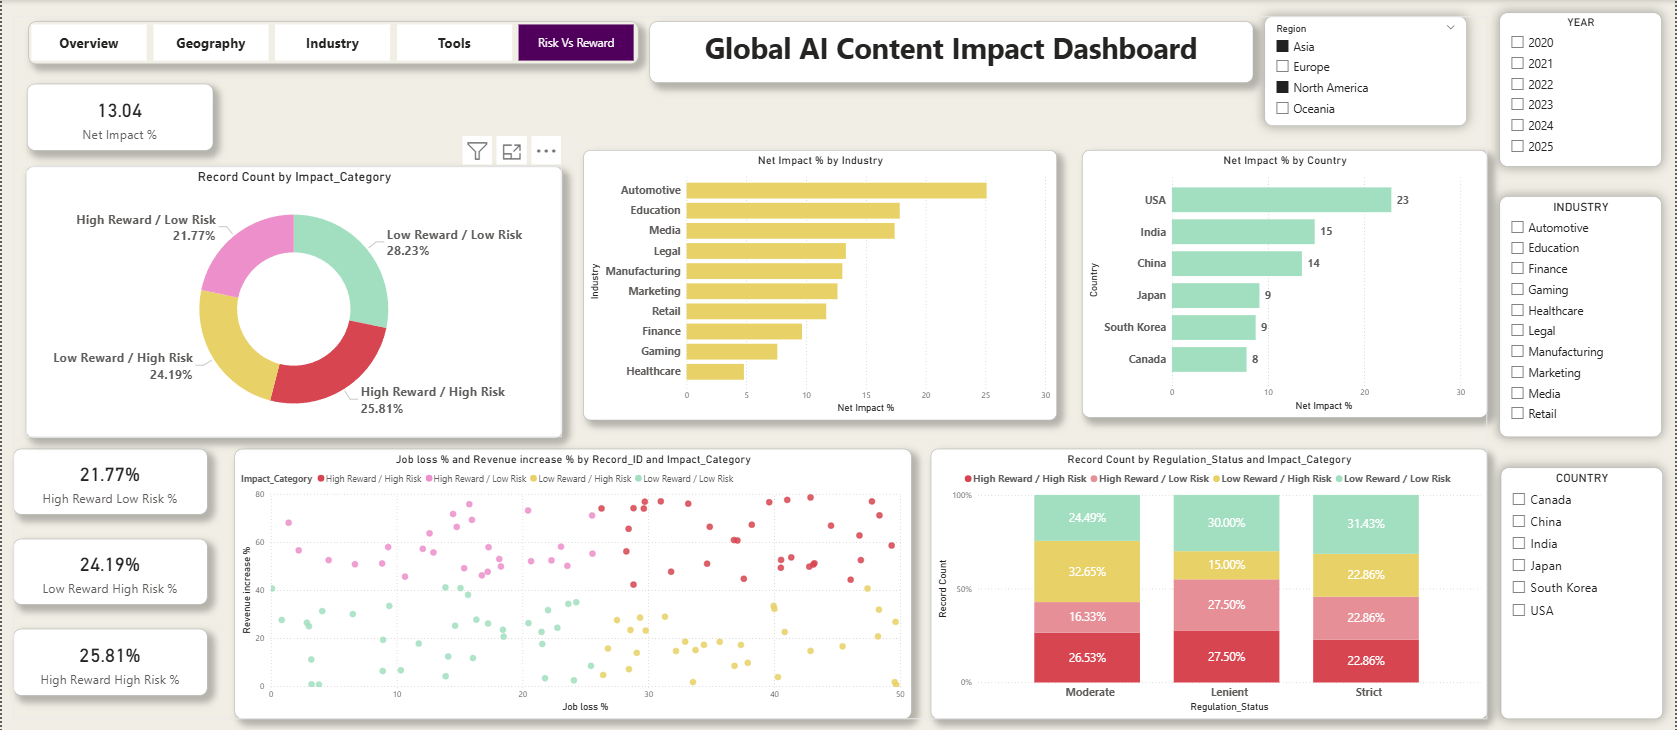

The page's visual inventory and layout, read from the dashboard file:
{"tool":"powerbi","page":{"name":"Risk Vs Reward","canvas":[2500,1100],"ordinal":4},"visuals":[{"type":"slicer","title":"YEAR","fields":{"Values":["AI_Content_Impact_Cleaned.Year"]},"box":[2240,24,242,230],"z":0},{"type":"card","fields":{"Values":["Measures Table.Net Impact %"]},"box":[16,106,278,100],"z":0,"group":"g1"},{"type":"card","fields":{"Values":["Measures Table.High Reward Low Risk %"]},"box":[16,670,290,98],"z":1000,"group":"g1"},{"type":"slicer","title":"COUNTRY","fields":{"Values":["AI_Content_Impact_Cleaned.Country"]},"box":[2240,698,242,376],"z":1000},{"type":"group","id":"g1","title":"Risk Vs Reward","box":[16,24,2204,1050],"z":2000},{"type":"card","fields":{"Values":["Measures Table.High Reward High Risk %"]},"box":[16,940,290,100],"z":2000,"group":"g1"},{"type":"card","fields":{"Values":["Measures Table.Low Reward High Risk %"]},"box":[16,804,290,98],"z":3000,"group":"g1"},{"type":"scatterChart","fields":{"X":["Sum(AI_Content_Impact_Cleaned.Job_Loss_Pct)"],"Y":["Sum(AI_Content_Impact_Cleaned.Revenue_Increase_Pct)"],"Category":["AI_Content_Impact_Cleaned.Record_ID"],"Series":["AI_Content_Impact_Cleaned.Impact_Category"]},"box":[346,670,1012,404],"z":4000,"group":"g1"},{"type":"donutChart","fields":{"Category":["AI_Content_Impact_Cleaned.Impact_Category"],"Y":["Measures Table.Record Count"]},"box":[16,224,802,406],"z":5000,"group":"g1"},{"type":"clusteredBarChart","fields":{"Category":["AI_Content_Impact_Cleaned.Country"],"Y":["Measures Table.Net Impact %"]},"box":[1614,224,606,400],"z":6000,"group":"g1"},{"type":"clusteredBarChart","fields":{"Category":["AI_Content_Impact_Cleaned.Industry"],"Y":["Measures Table.Net Impact %"]},"box":[868,224,708,404],"z":7000,"group":"g1"},{"type":"hundredPercentStackedColumnChart","fields":{"Category":["AI_Content_Impact_Cleaned.Regulation_Status"],"Y":["Measures Table.Record Count"],"Series":["AI_Content_Impact_Cleaned.Impact_Category"]},"box":[1388,670,832,404],"z":8000,"group":"g1"},{"type":"slicer","fields":{"Values":["AI_Content_Impact_Cleaned.Region"]},"box":[1886,24,302,164],"z":9000,"group":"g1"}]}

Visuals, with their boxes in screenshot pixels (x1, y1, x2, y2), scaled from the page's 2500x1100 canvas onto the 1677x730 screenshot:
"YEAR" slicer: 1503 16 1665 169
card - Measures Table.Net Impact %: 11 70 197 137
card - Measures Table.High Reward Low Risk %: 11 445 205 510
"COUNTRY" slicer: 1503 463 1665 713
"Risk Vs Reward" group: 11 16 1489 713
card - Measures Table.High Reward High Risk %: 11 624 205 690
card - Measures Table.Low Reward High Risk %: 11 534 205 599
scatterChart - Sum(AI_Content_Impact_Cleaned.Job_Loss_Pct) x Sum(AI_Content_Impact_Cleaned.Revenue_Increase_Pct): 232 445 911 713
donutChart - AI_Content_Impact_Cleaned.Impact_Category x Measures Table.Record Count: 11 149 549 418
clusteredBarChart - AI_Content_Impact_Cleaned.Country x Measures Table.Net Impact %: 1083 149 1489 414
clusteredBarChart - AI_Content_Impact_Cleaned.Industry x Measures Table.Net Impact %: 582 149 1057 417
hundredPercentStackedColumnChart - AI_Content_Impact_Cleaned.Regulation_Status x Measures Table.Record Count: 931 445 1489 713
slicer - AI_Content_Impact_Cleaned.Region: 1265 16 1468 125
